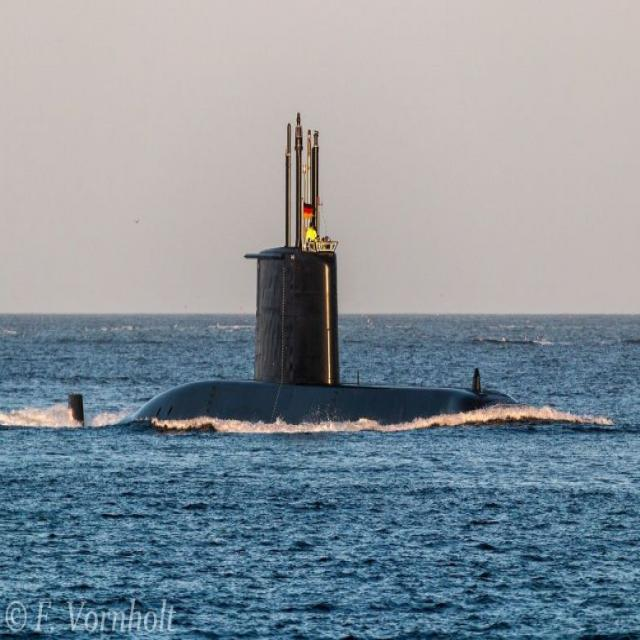submarine: (67, 106, 529, 422)
